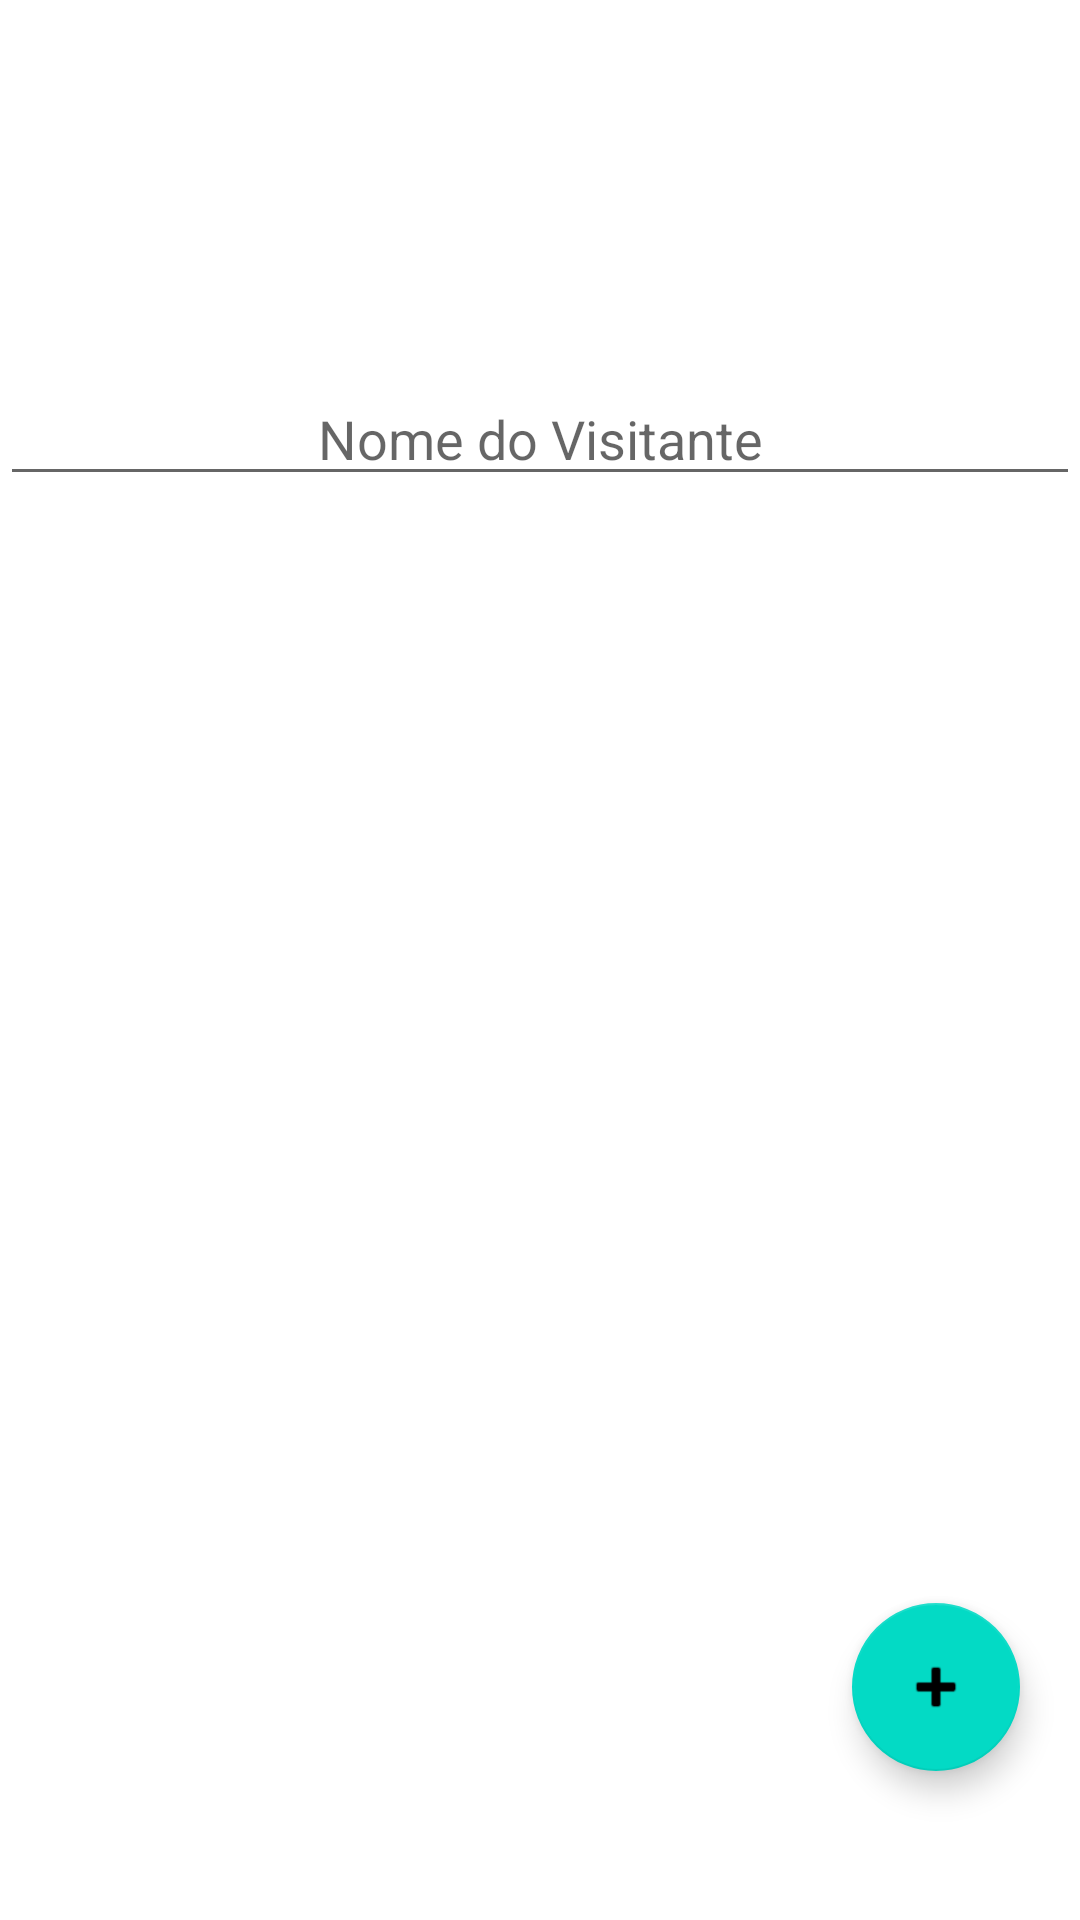

Named icons in this screenshot (1080w x 1920h) and their centers, point (x, y):
add: point (936, 1687)
